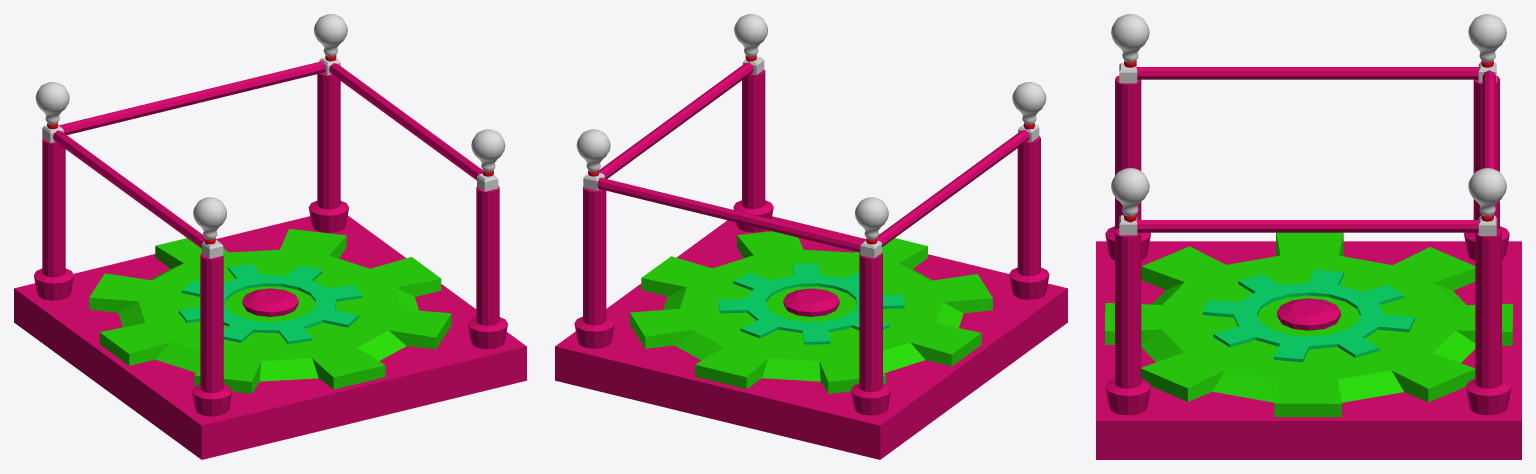
File: pressurplate_klar.fbx
The picture shows the model from 3 angles, left to right: view 1: azimuth 30°, elevation 25°; view 2: azimuth 150°, elevation 25°; view 3: azimuth 270°, elevation 25°; orthographic projection. The views are drawn at different scales.
Parts seen in each view (by area): view 1: lightbulb, lightbulb.001; view 2: lightbulb, lightbulb.001; view 3: lightbulb, lightbulb.001.
Part boxes in pixels (x1=…): lightbulb: x1=14, y1=55, x2=526, y2=459; lightbulb.001: x1=35, y1=14, x2=505, y2=239; lightbulb: x1=555, y1=55, x2=1067, y2=459; lightbulb.001: x1=576, y1=14, x2=1046, y2=239; lightbulb: x1=1096, y1=60, x2=1521, y2=459; lightbulb.001: x1=1111, y1=14, x2=1506, y2=216.
Size of the model in its own units: 474 by 341 by 474.
